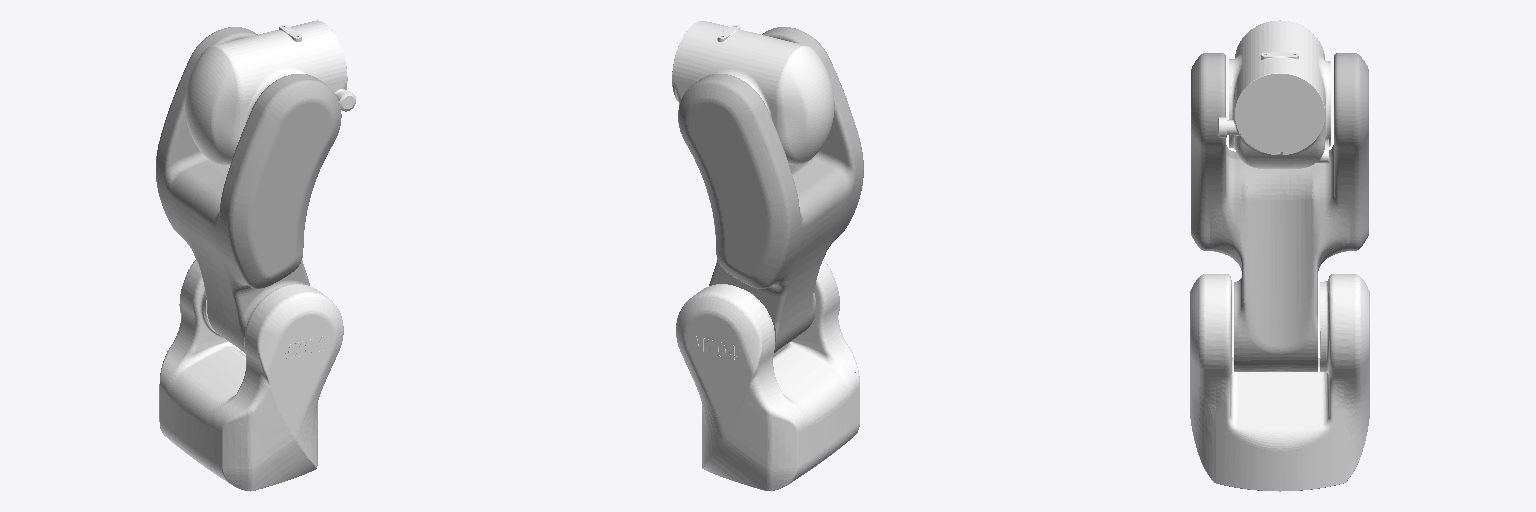
URDF robot description (right_arm):
<?xml version="1.0" encoding="utf-8"?>
<!-- =================================================================================== -->
<!-- |    This document was autogenerated by xacro from dual_mz04_right_arm.urdf.xacro | -->
<!-- |    EDITING THIS FILE BY HAND IS NOT RECOMMENDED                                 | -->
<!-- =================================================================================== -->
<robot name="right_arm">
  <!-- for simulation -->
  <!--    <link name="world" />-->
  <!--    <joint name="robot_to_world" type="fixed">-->
  <!--      <parent link="world" />-->
  <!--      <child link="${arm_id}_link0" />-->
  <!--      <origin xyz="0.0 0.0 0.0" rpy="0.0 0.0 0.0" />-->
  <!--    </joint>-->
  <!-- end for simulation -->
  <link name="arm_R_link0">
    <visual>
      <geometry>
        <mesh filename="package://mz04_description/meshes/visual/link0.dae"/>
      </geometry>
    </visual>
    <collision>
      <geometry>
        <mesh filename="package://mz04_description/meshes/collision/link0.stl"/>
      </geometry>
    </collision>
  </link>
  <link name="arm_R_link1">
    <visual>
      <geometry>
        <mesh filename="package://mz04_description/meshes/visual/link1.dae"/>
      </geometry>
    </visual>
    <collision>
      <geometry>
        <mesh filename="package://mz04_description/meshes/collision/link1.stl"/>
      </geometry>
    </collision>
    <!-- for simulation -->
    <inertial>
      <origin rpy="0 0 0" xyz="-0.0197023514199581 0.000938298692799631 0.0855256712156905"/>
      <mass value="3.29244591173868"/>
      <inertia ixx="0.0222350895636315" ixy="-6.0973596097687E-05" ixz="-0.00175393698078112" iyy="0.0154200096606875" iyz="-0.000258002191557829" izz="0.0150764764826899"/>
    </inertial>
    <!-- end for simulation -->
  </link>
  <joint name="arm_R_joint1" type="revolute">
    <safety_controller k_position="100.0" k_velocity="40.0" soft_lower_limit="-2.97" soft_upper_limit="2.97"/>
    <origin rpy="0 0 0" xyz="0 0 0.171"/>
    <parent link="arm_R_link0"/>
    <child link="arm_R_link1"/>
    <axis xyz="0 0 1"/>
    <limit effort="100" lower="-2.97" upper="2.97" velocity="8.38"/>
    <!-- for simulation -->
    <dynamics damping="1.0"/>
    <!-- end for simulation -->
  </joint>
  <link name="arm_R_link2">
    <visual>
      <geometry>
        <mesh filename="package://mz04_description/meshes/visual/link2.dae"/>
      </geometry>
    </visual>
    <collision>
      <geometry>
        <mesh filename="package://mz04_description/meshes/collision/link2.stl"/>
      </geometry>
    </collision>
    <!-- for simulation -->
    <inertial>
      <origin rpy="0 0 0" xyz="-0.0229430342959031 -0.129313116426115 -0.000857512097067098"/>
      <mass value="3.43354405526974"/>
      <inertia ixx="0.0374859154128489" ixy="-0.000577795026903937" ixz="6.67389962661599E-05" iyy="0.0140465634657448" iyz="0.000377486259040234" izz="0.0301480758700004"/>
    </inertial>
    <!-- end for simulation -->
  </link>
  <joint name="arm_R_joint2" type="revolute">
    <safety_controller k_position="100.0" k_velocity="40.0" soft_lower_limit="-2.53" soft_upper_limit="1.57"/>
    <origin rpy="-1.57079632679 0 0" xyz="0 0 0.169"/>
    <parent link="arm_R_link1"/>
    <child link="arm_R_link2"/>
    <axis xyz="0 0 -1"/>
    <limit effort="100" lower="-2.53" upper="1.57" velocity="8.03"/>
    <!-- for simulation -->
    <dynamics damping="1.0"/>
    <!-- end for simulation -->
  </joint>
  <link name="arm_R_link3">
    <visual>
      <geometry>
        <mesh filename="package://mz04_description/meshes/visual/link3.dae"/>
      </geometry>
    </visual>
    <collision>
      <geometry>
        <mesh filename="package://mz04_description/meshes/collision/link3.stl"/>
      </geometry>
    </collision>
    <!-- for simulation -->
    <inertial>
      <origin rpy="0 0 0" xyz="0.00557516997606589 -0.000280097155568842 -0.000264708631542377"/>
      <mass value="1.75772574412506"/>
      <inertia ixx="0.0032167713214568" ixy="-0.000191167581086016" ixz="1.23933539489604E-06" iyy="0.00322653422939074" iyz="5.25316745371768E-06" izz="0.00390619750681237"/>
    </inertial>
    <!-- end for simulation -->
  </link>
  <joint name="arm_R_joint3" type="revolute">
    <safety_controller k_position="100.0" k_velocity="40.0" soft_lower_limit="-2.18" soft_upper_limit="4.89"/>
    <origin rpy="0 0 -1.57079632679" xyz="0 -0.26 0"/>
    <parent link="arm_R_link2"/>
    <child link="arm_R_link3"/>
    <axis xyz="0 0 -1"/>
    <limit effort="100" lower="-2.18" upper="4.89" velocity="9.08"/>
    <!-- for simulation -->
    <dynamics damping="1.0"/>
    <!-- end for simulation -->
  </joint>
  <link name="arm_R_link4">
    <visual>
      <geometry>
        <mesh filename="package://mz04_description/meshes/visual/link4.dae"/>
      </geometry>
    </visual>
    <collision>
      <geometry>
        <mesh filename="package://mz04_description/meshes/collision/link4.stl"/>
      </geometry>
    </collision>
    <!-- for simulation -->
    <inertial>
      <origin rpy="0 0 0" xyz="0.00309024473150554 -0.000145366515908234 -0.102946189818116"/>
      <mass value="1.70562401190118"/>
      <inertia ixx="0.00721639807702088" ixy="-3.42236031590701E-07" ixz="5.92374124737924E-05" iyy="0.00686286874449402" iyz="5.84968158425155E-06" izz="0.00220615434229459"/>
    </inertial>
    <!-- end for simulation -->
  </link>
  <joint name="arm_R_joint4" type="revolute">
    <safety_controller k_position="100.0" k_velocity="40.0" soft_lower_limit="-3.32" soft_upper_limit="3.32"/>
    <origin rpy="-1.57079632679 0 0" xyz="0.0249999999999999 0.28 0"/>
    <parent link="arm_R_link3"/>
    <child link="arm_R_link4"/>
    <axis xyz="0 0 1"/>
    <limit effort="100" lower="-3.32" upper="3.32" velocity="9.77"/>
    <!-- for simulation -->
    <dynamics damping="1.0"/>
    <!-- end for simulation -->
  </joint>
  <link name="arm_R_link5">
    <visual>
      <geometry>
        <mesh filename="package://mz04_description/meshes/visual/link5.dae"/>
      </geometry>
    </visual>
    <collision>
      <geometry>
        <mesh filename="package://mz04_description/meshes/collision/link5.stl"/>
      </geometry>
    </collision>
    <!-- for simulation -->
    <inertial>
      <origin rpy="0 0 0" xyz="-5.86547276966165E-05 0.0199090373472192 -0.00293631213635448"/>
      <mass value="0.336399836903676"/>
      <inertia ixx="0.000446624368283086" ixy="2.47061371480887E-07" ixz="6.15821325897774E-07" iyy="0.000330568174441235" iyz="-1.87705108529991E-05" izz="0.000351036334434016"/>
    </inertial>
    <!-- end for simulation -->
  </link>
  <joint name="arm_R_joint5" type="revolute">
    <safety_controller k_position="100.0" k_velocity="40.0" soft_lower_limit="-2.09" soft_upper_limit="2.09"/>
    <origin rpy="1.57079632679 0 0" xyz="0 0 0"/>
    <parent link="arm_R_link4"/>
    <child link="arm_R_link5"/>
    <axis xyz="0 0 -1"/>
    <limit effort="100" lower="-2.09" upper="2.09" velocity="9.77"/>
    <!-- for simulation -->
    <dynamics damping="1.0"/>
    <!-- end for simulation -->
  </joint>
  <link name="arm_R_link6">
    <visual>
      <geometry>
        <mesh filename="package://mz04_description/meshes/visual/link6.dae"/>
      </geometry>
    </visual>
    <collision>
      <geometry>
        <mesh filename="package://mz04_description/meshes/collision/link6.stl"/>
      </geometry>
    </collision>
    <!-- for simulation -->
    <inertial>
      <origin rpy="0 0 0" xyz="0.00020870301755449 5.54207254168023E-05 0.0685507759319275"/>
      <mass value="0.0340082287388899"/>
      <inertia ixx="8.72489057883343E-06" ixy="5.14603740499548E-08" ixz="-7.72265367887762E-09" iyy="8.58258061822553E-06" iyz="-2.01661845696461E-09" izz="1.61785714739617E-05"/>
    </inertial>
    <!-- end for simulation -->
  </link>
  <joint name="arm_R_joint6" type="revolute">
    <safety_controller k_position="100.0" k_velocity="40.0" soft_lower_limit="-6.28" soft_upper_limit="6.28"/>
    <origin rpy="-1.57079632679 0 0" xyz="0 0.072 0"/>
    <parent link="arm_R_link5"/>
    <child link="arm_R_link6"/>
    <axis xyz="0 0 1"/>
    <limit effort="10" lower="-6.28" upper="6.28" velocity="15.71"/>
    <!-- for simulation -->
    <dynamics damping="1.0"/>
    <!-- end for simulation -->
  </joint>
</robot>

--- Facts derived from the render (not from the file) ---
3 views of the same robot in one strip: view 1: azimuth 30°, elevation 25°; view 2: azimuth 150°, elevation 25°; view 3: azimuth 270°, elevation 25° (orthographic).
Robot: right_arm — 7 links, 6 joints (6 revolute); root link arm_R_link0; default pose: all joints at 0.
Visible links, largest first — view 1: arm_R_link2, arm_R_link1, arm_R_link3; view 2: arm_R_link2, arm_R_link1, arm_R_link3; view 3: arm_R_link2, arm_R_link1, arm_R_link3.
Boxes of the visible links, x1,y1,x2,y2 form: arm_R_link2: [156, 27, 341, 353]; arm_R_link1: [159, 260, 343, 491]; arm_R_link3: [185, 20, 355, 164]; arm_R_link2: [678, 27, 863, 352]; arm_R_link1: [676, 259, 859, 490]; arm_R_link3: [672, 21, 834, 164]; arm_R_link2: [1191, 53, 1368, 371]; arm_R_link1: [1190, 274, 1369, 491]; arm_R_link3: [1218, 20, 1330, 168].
Bounding box of the posed robot: 0.1771 × 0.191 × 0.503 m (x, y, z).
Meshes: 7 distinct files referenced, 3 mesh visuals loaded (3 Collada DAE); not drawn: 4 (reference not matched to a file when rendering).